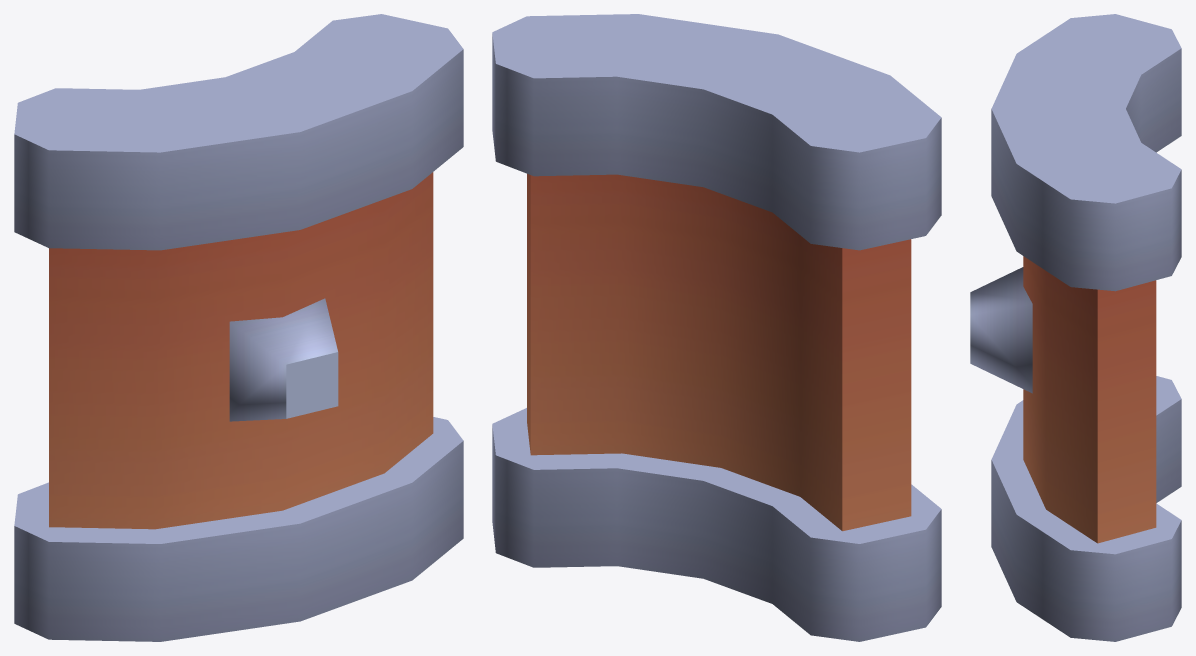
Rendered from kite_shield.glb.
3 renders of one model, left to right at view 1: azimuth 30°, elevation 25°; view 2: azimuth 150°, elevation 25°; view 3: azimuth 270°, elevation 25°, orthographic. The views are drawn at different scales.
Parts seen in each view (by area): view 1: shield-rectangle; view 2: shield-rectangle; view 3: shield-rectangle.
Part boxes in pixels (left/top/right/bottom): shield-rectangle: left=14, top=14, right=463, bottom=641; shield-rectangle: left=492, top=14, right=941, bottom=641; shield-rectangle: left=970, top=14, right=1181, bottom=641.
Size of the model in its own units: 0.2759 by 0.2975 by 0.13.
Materials: 1 (1 with a texture image).
